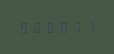nine: (17, 20, 29, 34)
one: (83, 19, 95, 33)
seven: (70, 19, 82, 33)
zero: (30, 20, 42, 34), (44, 20, 56, 34), (57, 20, 69, 33)
